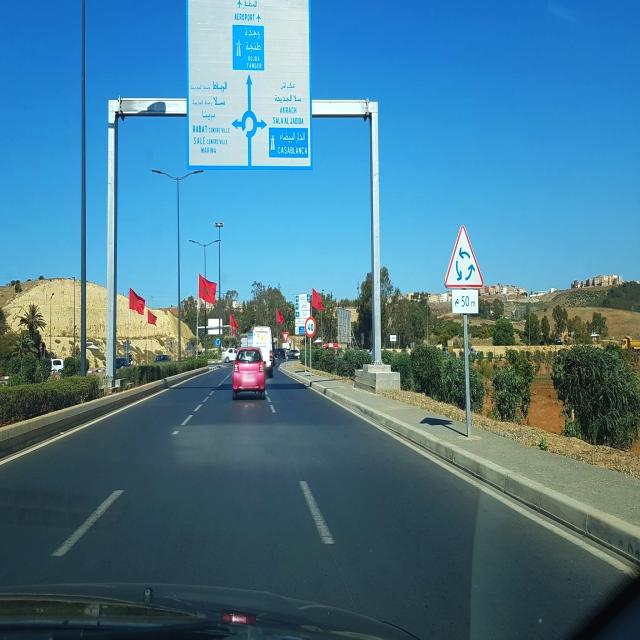car: (232, 345, 267, 401), (222, 347, 237, 362), (154, 352, 172, 363), (286, 347, 300, 361)
